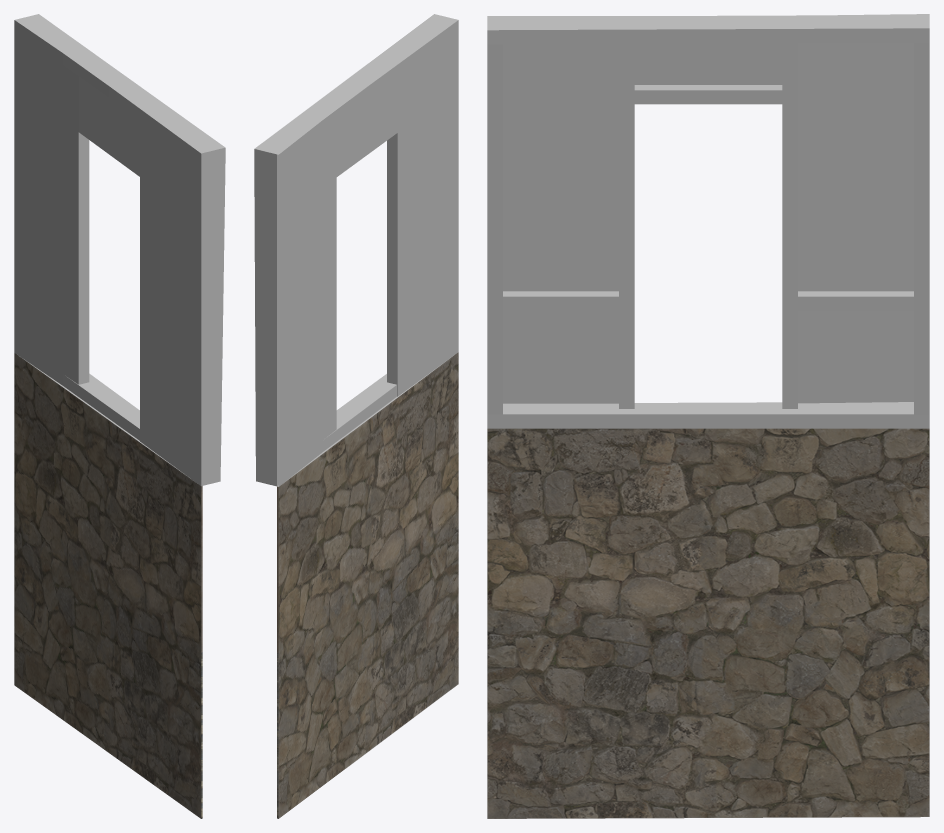
Rendered from HouseWall_2x2_v2.fbx.
3 views of the same model, side by side, from view 1: azimuth 30°, elevation 25°; view 2: azimuth 150°, elevation 25°; view 3: azimuth 270°, elevation 25° (orthographic). The views are drawn at different scales.
Visible parts, largest first — view 1: Plane.103; view 2: Plane.103; view 3: Plane.103.
Boxes of the visible parts, x1=… form: Plane.103: x1=14, y1=14, x2=225, y2=818; Plane.103: x1=254, y1=14, x2=458, y2=818; Plane.103: x1=487, y1=14, x2=929, y2=818.
Size of the model in its own units: 17.34 by 400 by 200.
